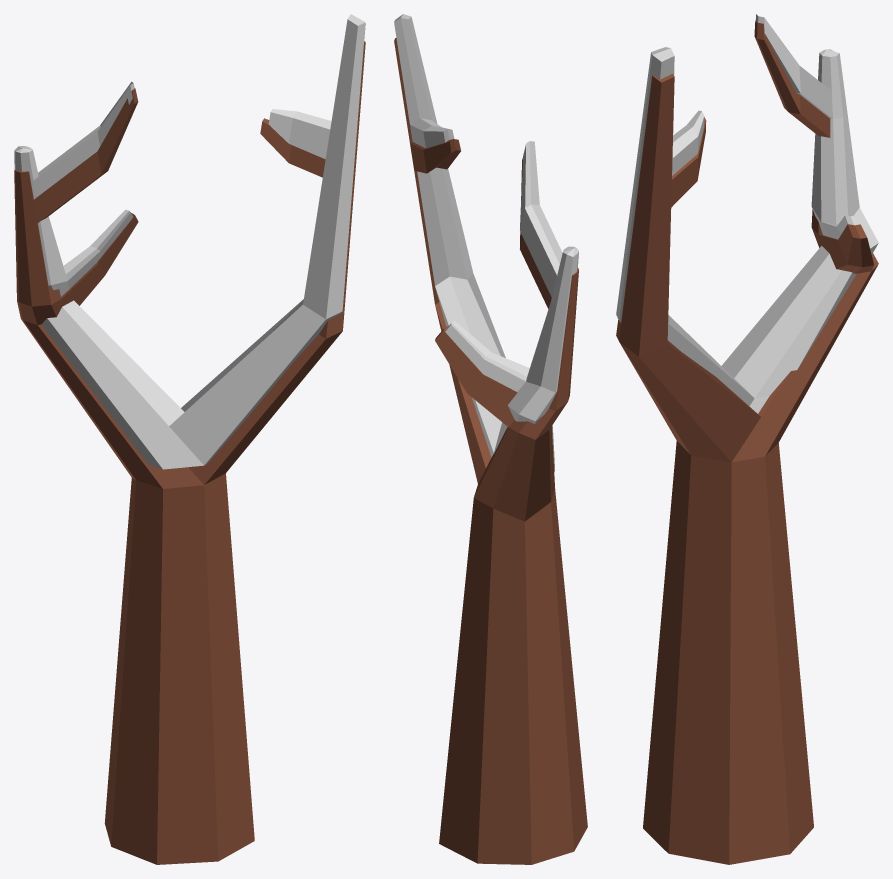
The model's file is Tree_05_winter_mat.fbx.
3 renders of one model, left to right at view 1: azimuth 30°, elevation 25°; view 2: azimuth 150°, elevation 25°; view 3: azimuth 270°, elevation 25°, orthographic. The views are drawn at different scales.
Visible parts, largest first — view 1: Tree_05_winter_mat; view 2: Tree_05_winter_mat; view 3: Tree_05_winter_mat.
Boxes of the visible parts, box(x1,y1,x2,y2) form: Tree_05_winter_mat: box(14, 14, 365, 864); Tree_05_winter_mat: box(394, 14, 587, 864); Tree_05_winter_mat: box(616, 14, 878, 864).
Size of the model in its own units: 52.44 by 148 by 41.19.
